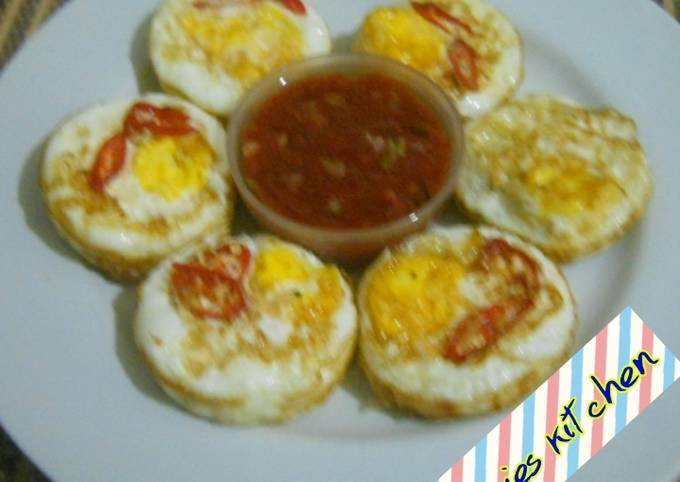Telur: (135, 246, 338, 394), (477, 88, 644, 258), (54, 87, 206, 249), (379, 248, 533, 406), (124, 1, 325, 85), (356, 11, 518, 100)
